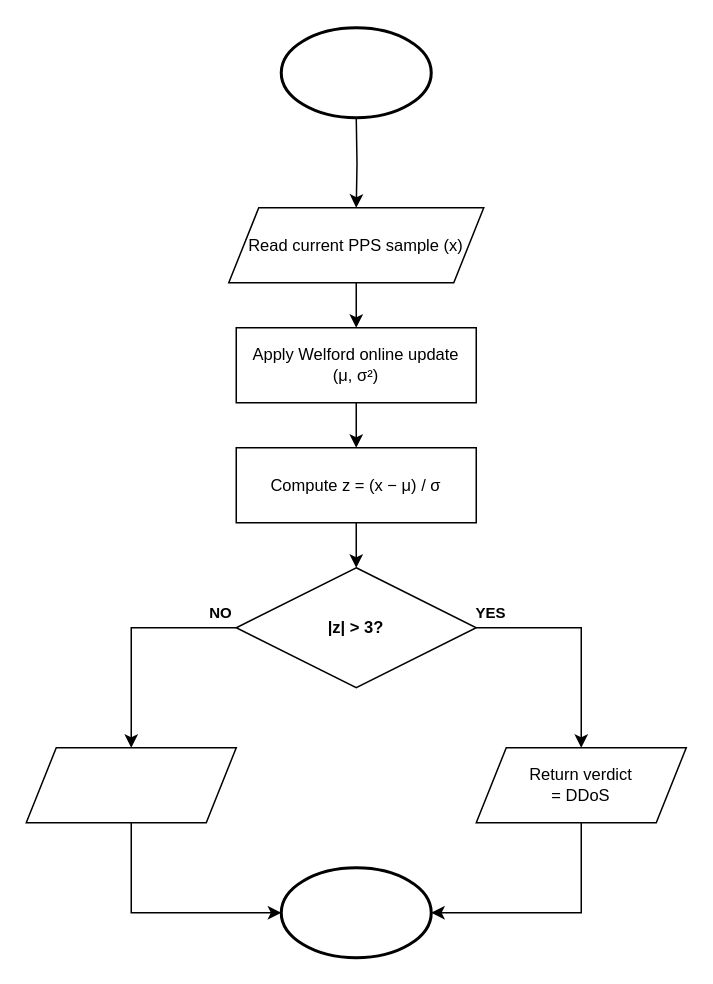
This 713x984 diagram has some shape labels left out. The centre of each missing label's shape, as x and y in pixels:
"End" belongs at [355,912].
"Return verdict = Normal" belongs at [130,784].
"Start" belongs at [355,72].
